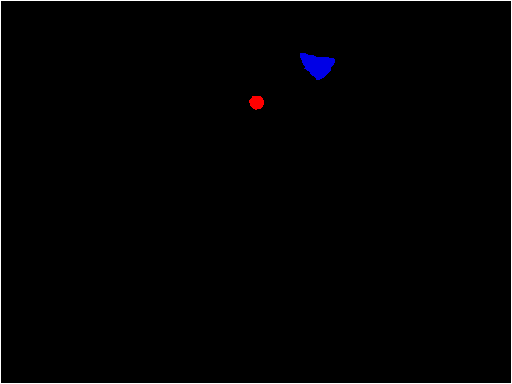chipped: (301, 51, 328, 71)
detached: (249, 95, 263, 109)
